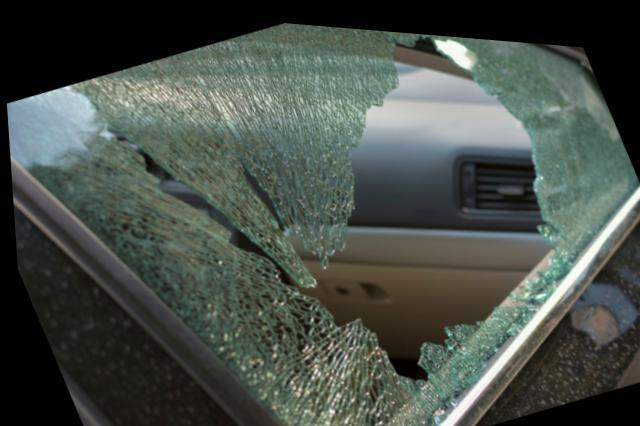glass shatter: (5, 18, 638, 426)
